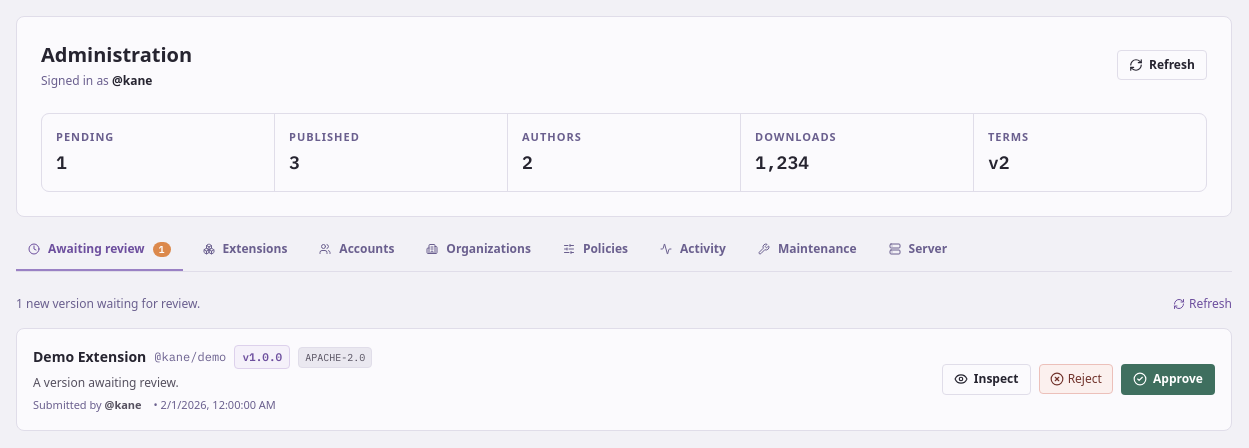
Scenario: AdminPage › lists organizations on their own tab
The width and height of the screenshot is (1249, 448).
Click the button "Organizations": coordinates (479, 256) [414,241,543,271]
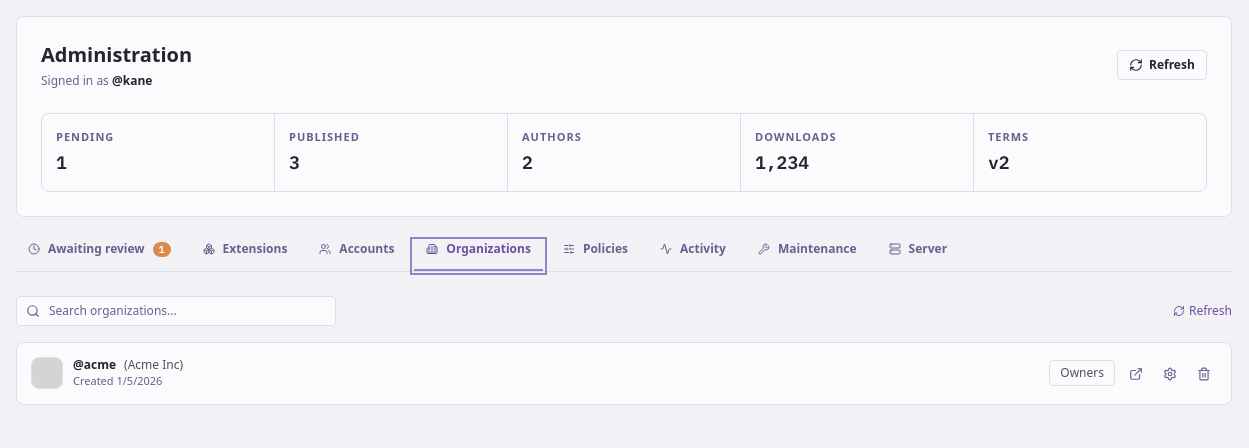
expect the text "@acme" is shown: met, box [73,357,116,373]
expect the field with placeholder "Search organizations..." is shown: met, box [16,296,336,326]
expect the button named "Permanently delete @acme" is shown: met, box [1191,359,1217,387]
